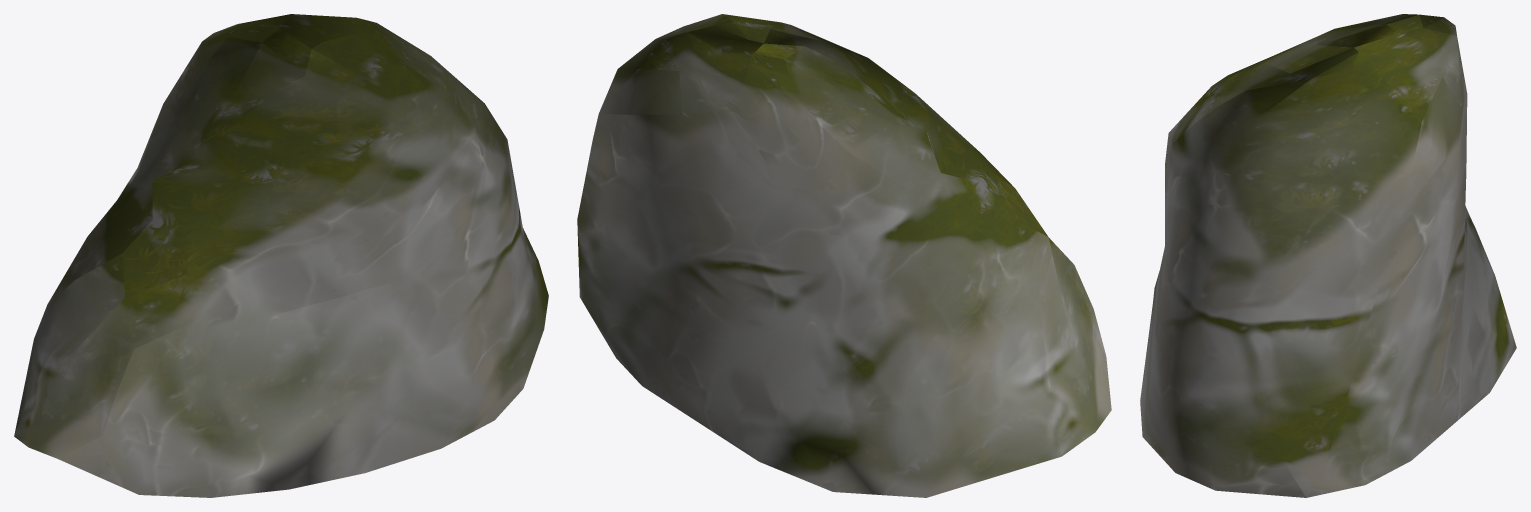
File: StoneVryLow2.fbx
3 renders of one model, left to right at view 1: azimuth 30°, elevation 25°; view 2: azimuth 150°, elevation 25°; view 3: azimuth 270°, elevation 25°, orthographic. The views are drawn at different scales.
Visible parts, largest first — view 1: SM_stones_big_low; view 2: SM_stones_big_low; view 3: SM_stones_big_low.
Boxes of the visible parts, left/top/right/bottom form: SM_stones_big_low: left=14, top=14, right=548, bottom=497; SM_stones_big_low: left=577, top=14, right=1111, bottom=497; SM_stones_big_low: left=1140, top=14, right=1516, bottom=497.
Bounding box in the file's own units: 1.56 × 1.05 × 0.9177.
1 material, 1 textured.
